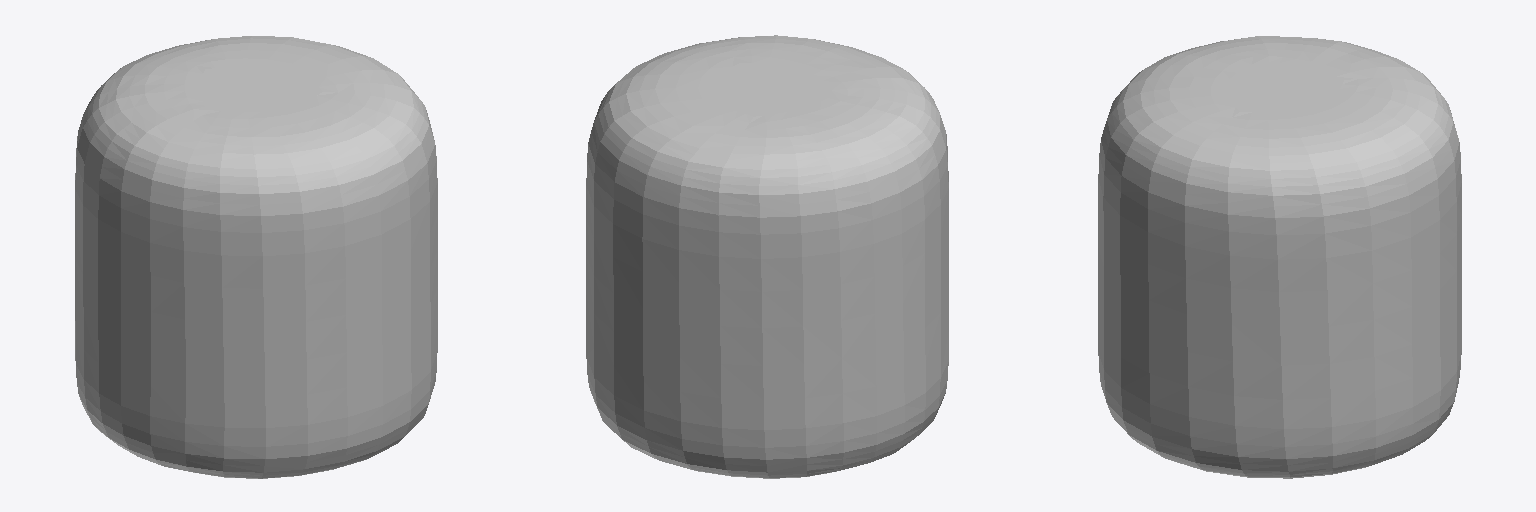
Rendered from Marshmallow.obj.
3 views of the same model, side by side, from view 1: azimuth 30°, elevation 25°; view 2: azimuth 150°, elevation 25°; view 3: azimuth 270°, elevation 25° (orthographic).
Parts seen in each view (by area): view 1: pCylinder1; view 2: pCylinder1; view 3: pCylinder1.
Part boxes in pixels (x1,y1,x2,y2): pCylinder1: (75, 36, 437, 478); pCylinder1: (586, 35, 948, 478); pCylinder1: (1098, 36, 1461, 478).
Bounding box in the file's own units: 13.86 × 14.07 × 13.85.